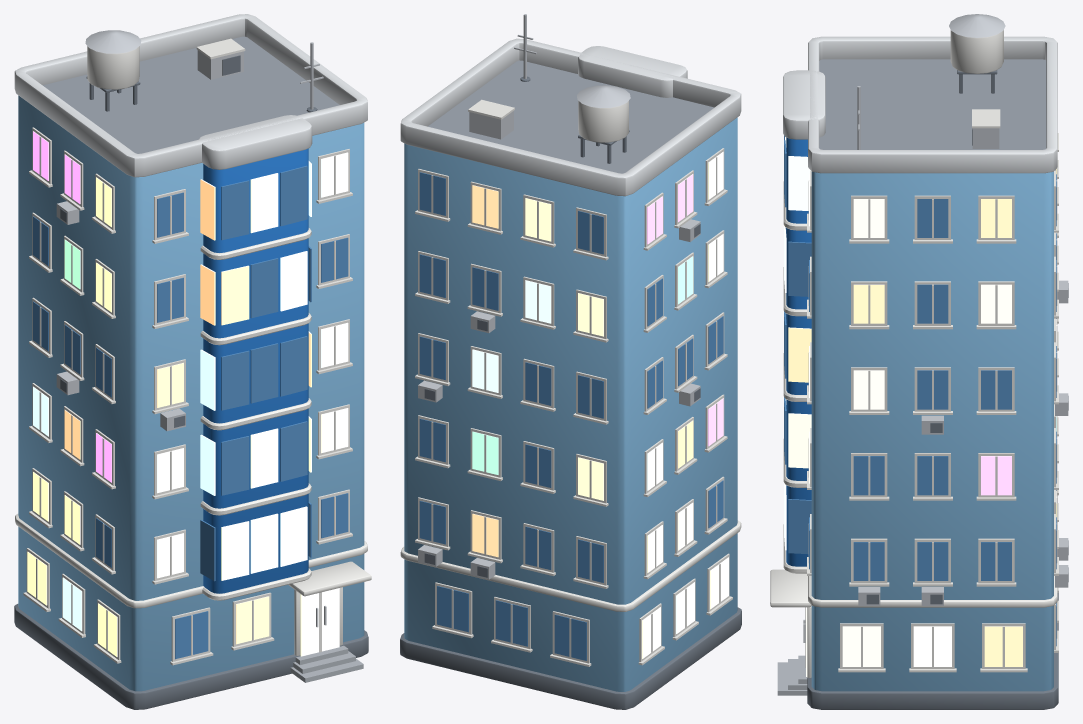
The model's file is apto_baia_azul.glb.
The picture shows the model from 3 angles, left to right: view 1: azimuth 30°, elevation 25°; view 2: azimuth 150°, elevation 25°; view 3: azimuth 270°, elevation 25°; orthographic projection. The views are drawn at different scales.
Visible parts, largest first — view 1: apto_baia_azul; view 2: apto_baia_azul; view 3: apto_baia_azul.
Part boxes in pixels (x1,y1,x2,y2): apto_baia_azul: (14,14,371,709); apto_baia_azul: (400,14,741,709); apto_baia_azul: (770,14,1068,709).
Bounding box in the file's own units: 10.19 × 22.65 × 10.09.
7 materials, 1 textured.
